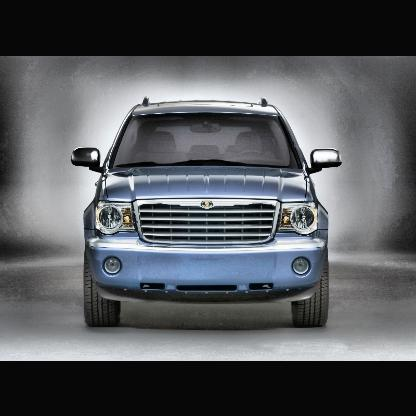Chrysler Aspen SUV 2009: (70, 97, 344, 342)
